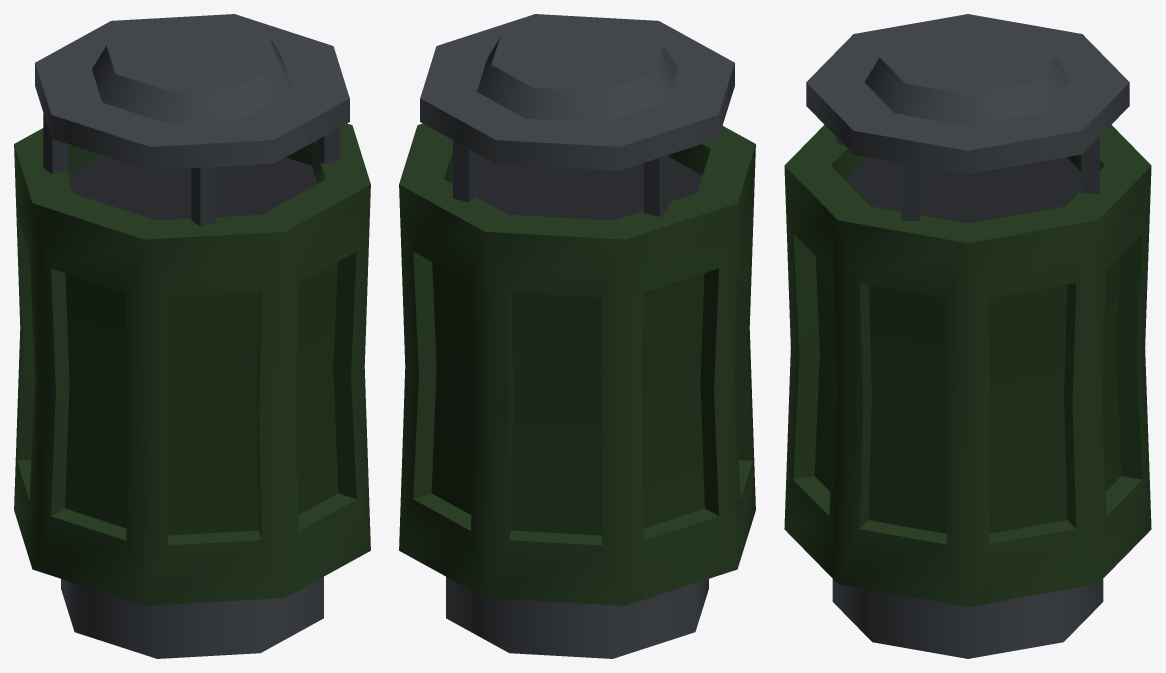
Rendered from Trash Bin_1.fbx.
3 renders of one model, left to right at view 1: azimuth 30°, elevation 25°; view 2: azimuth 150°, elevation 25°; view 3: azimuth 270°, elevation 25°, orthographic.
Parts seen in each view (by area): view 1: Trash Bin_1; view 2: Trash Bin_1; view 3: Trash Bin_1.
Boxes of the visible parts, x1=… form: Trash Bin_1: x1=14, y1=14, x2=370, y2=658; Trash Bin_1: x1=399, y1=14, x2=755, y2=658; Trash Bin_1: x1=784, y1=14, x2=1151, y2=658.
Bounding box in the file's own units: 91.62 × 150 × 91.62.
